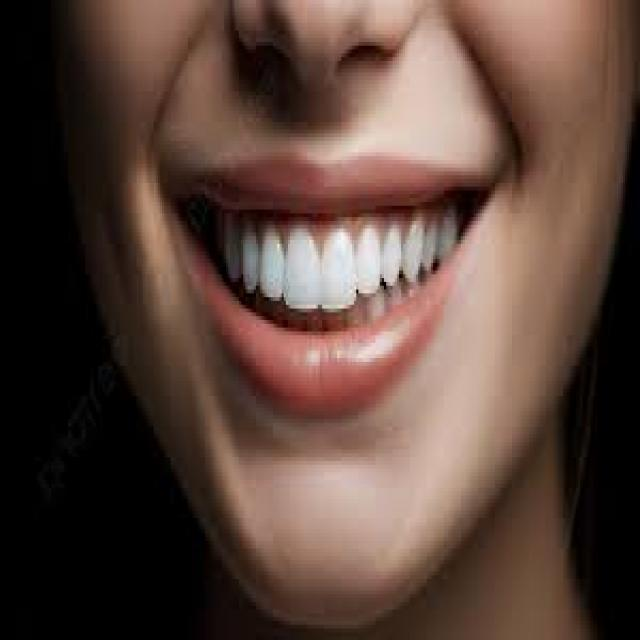tooth: (286, 225, 318, 305), (324, 232, 356, 301), (260, 221, 284, 297), (222, 210, 243, 278), (360, 228, 380, 290), (424, 213, 438, 267), (245, 228, 258, 286), (406, 225, 420, 278), (444, 210, 461, 252), (386, 229, 399, 278)
